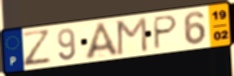6: (182, 10, 207, 47)
9: (57, 27, 78, 62)
A: (84, 20, 122, 61)
M: (116, 16, 149, 57)
P: (152, 14, 180, 51)
Z: (20, 28, 54, 69)
